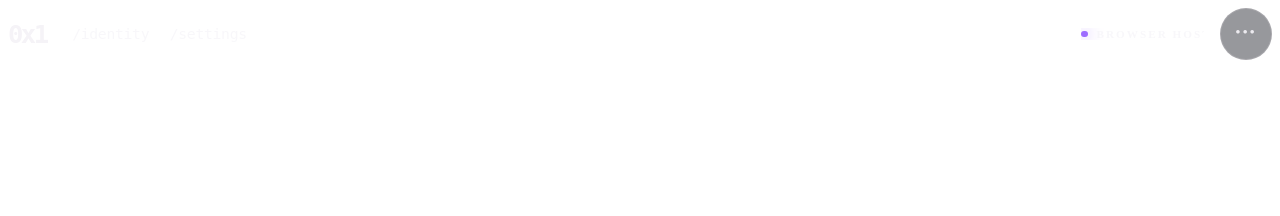
AppHeader › opens the overflow to the first item and closes it on Escape
Click the button named "More" at (1246, 34), box [1220, 8, 1272, 60]
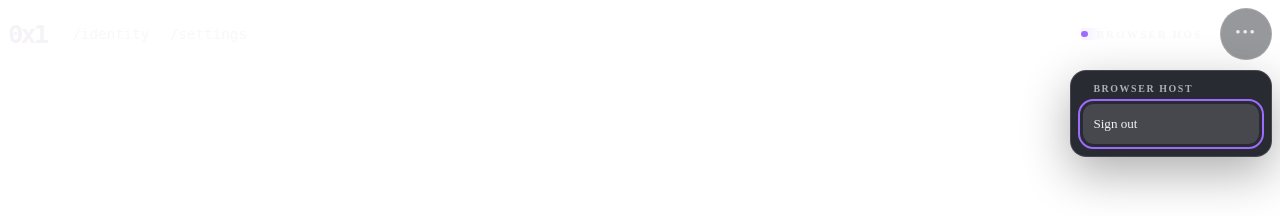
Press Escape
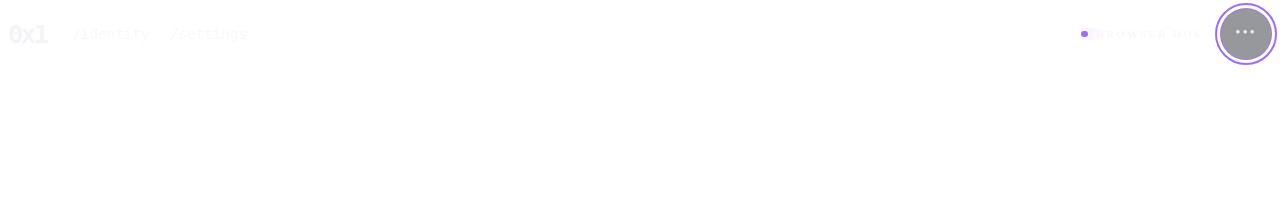
Result: the menu is gone
